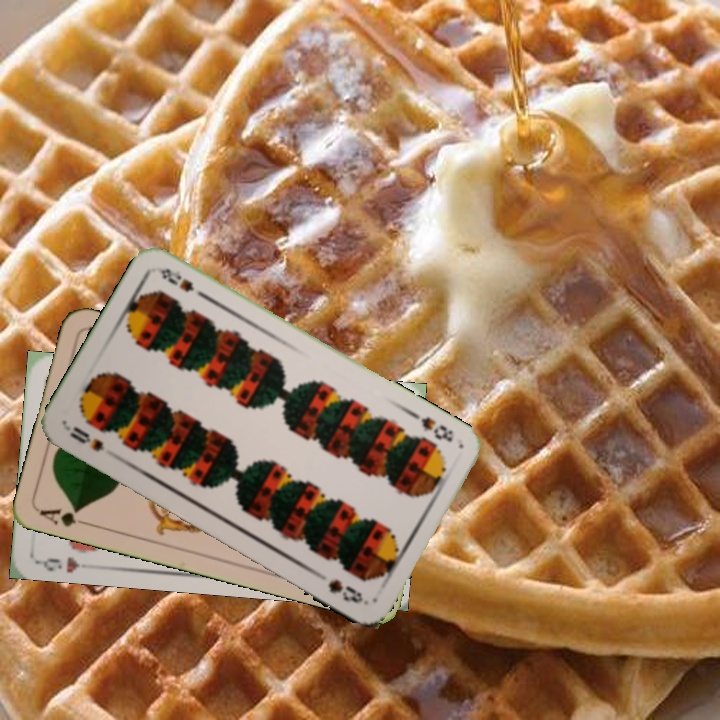GA: (36, 504, 95, 530)
H9: (35, 552, 82, 575)
S8: (406, 408, 457, 445), (62, 422, 107, 455)
